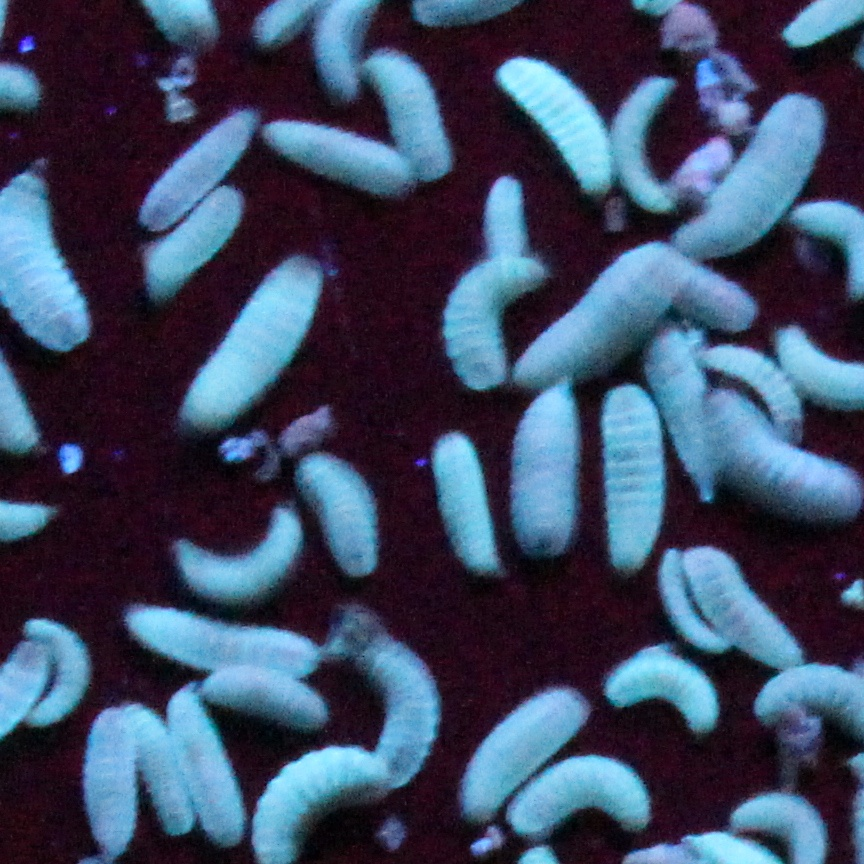larve: (180, 255, 323, 428), (513, 245, 680, 393), (688, 88, 829, 249), (462, 687, 588, 824), (490, 53, 613, 183), (348, 616, 435, 793), (141, 104, 260, 226), (119, 604, 323, 675), (441, 251, 545, 389), (686, 552, 802, 665), (505, 753, 664, 834), (601, 391, 664, 571), (513, 396, 582, 559), (268, 122, 417, 196), (145, 193, 243, 302), (703, 348, 816, 441), (170, 696, 241, 842), (609, 649, 727, 736), (182, 508, 296, 596), (294, 447, 376, 567), (129, 706, 196, 844), (378, 57, 456, 175), (433, 434, 496, 579), (21, 616, 94, 732), (623, 73, 672, 216), (201, 665, 319, 724), (86, 706, 125, 857), (688, 269, 762, 328)
